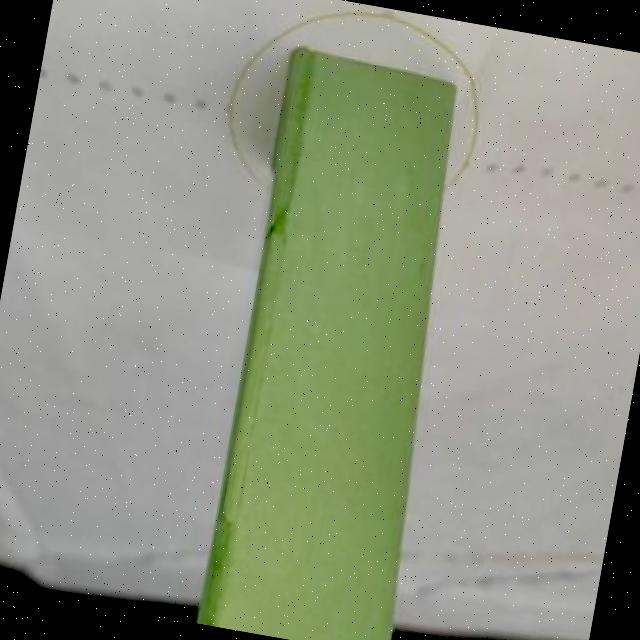greenbox: (192, 47, 501, 640)
